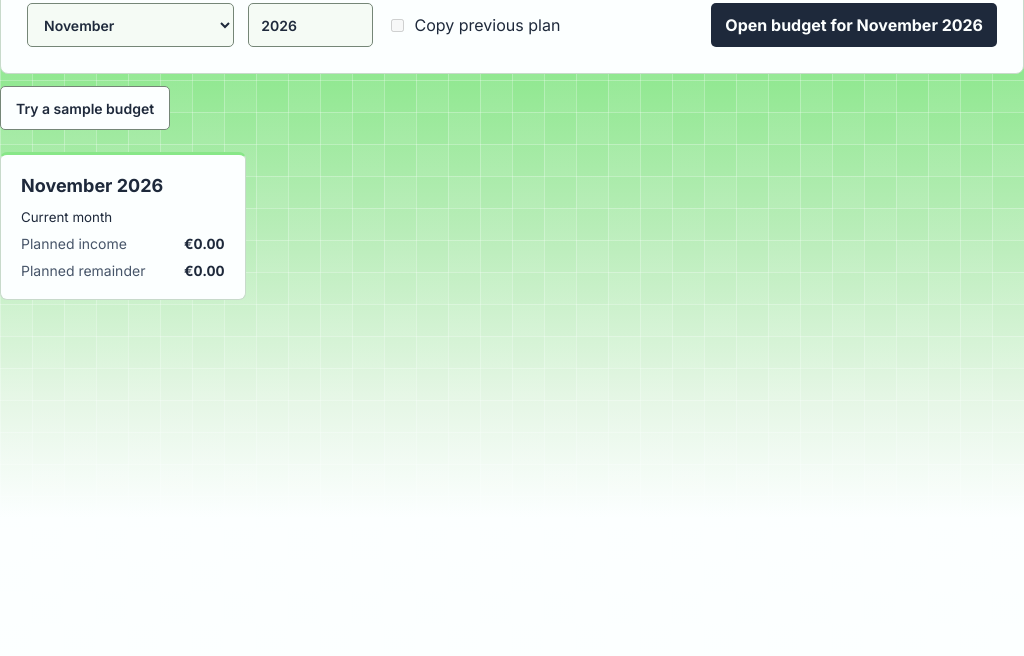
Test: requires confirmation to delete a named month
The width and height of the screenshot is (1024, 656).
Click the button with aria-label "Open November 2026": coordinates (123, 226) [0, 152, 246, 300]
(page scrolled)
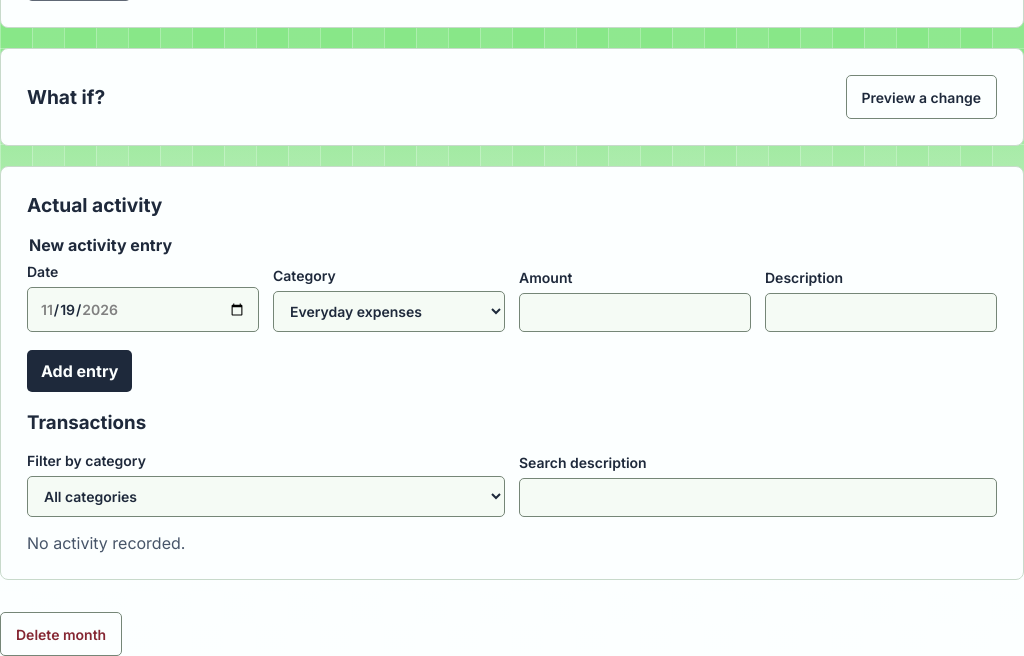
Click the button "Delete month": coordinates (61, 634) [0, 612, 122, 655]
(page scrolled)
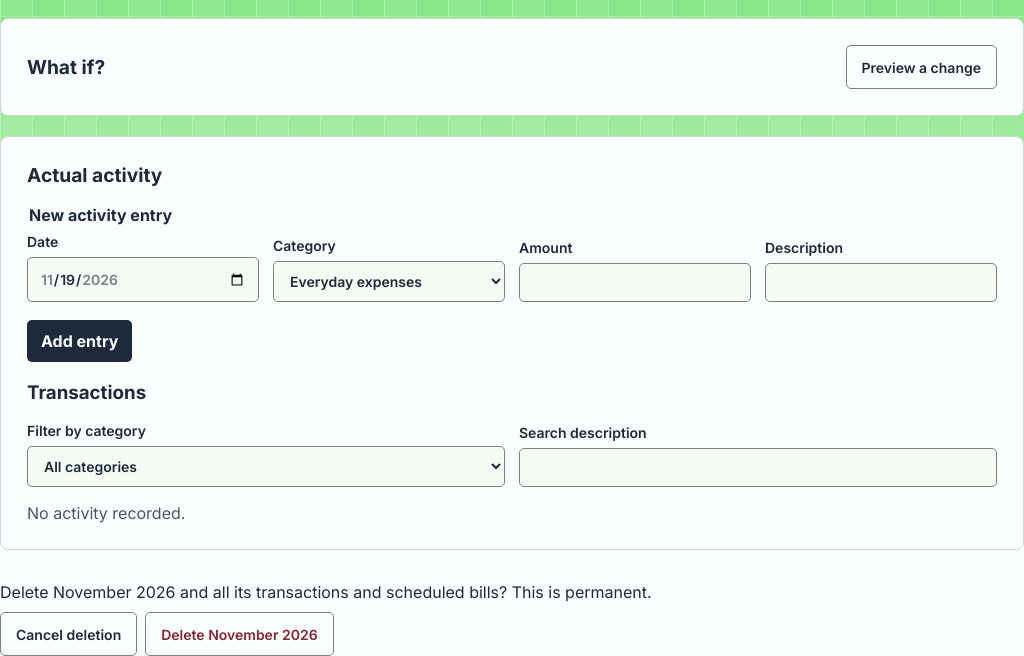
Click the button "Cancel deletion": coordinates (69, 634) [0, 612, 137, 655]
(page scrolled)
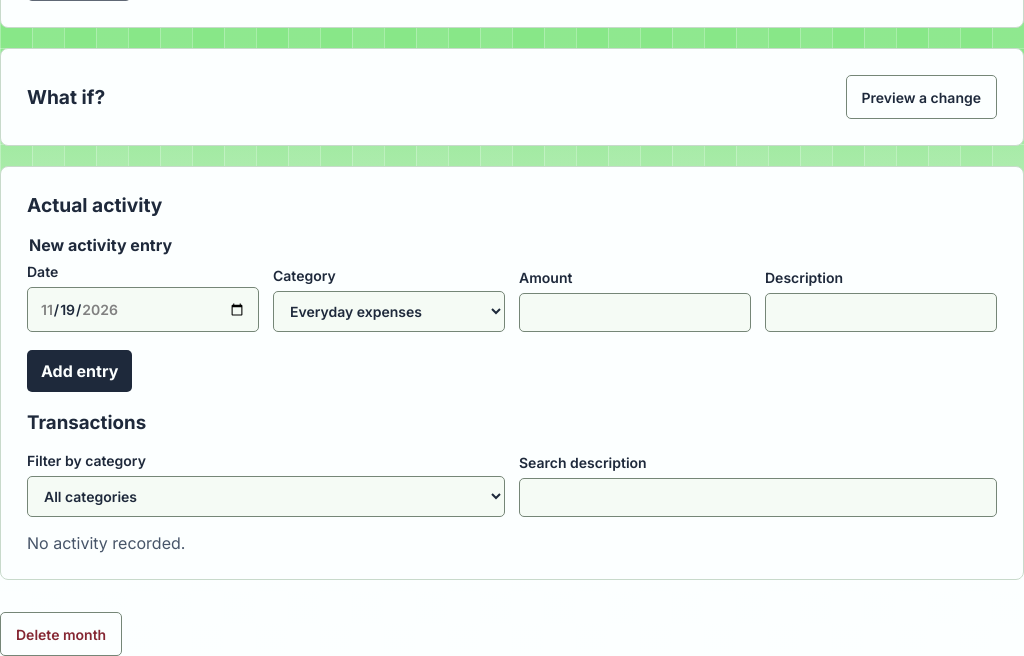
Click the button "Delete month": coordinates (61, 634) [0, 612, 122, 655]
(page scrolled)
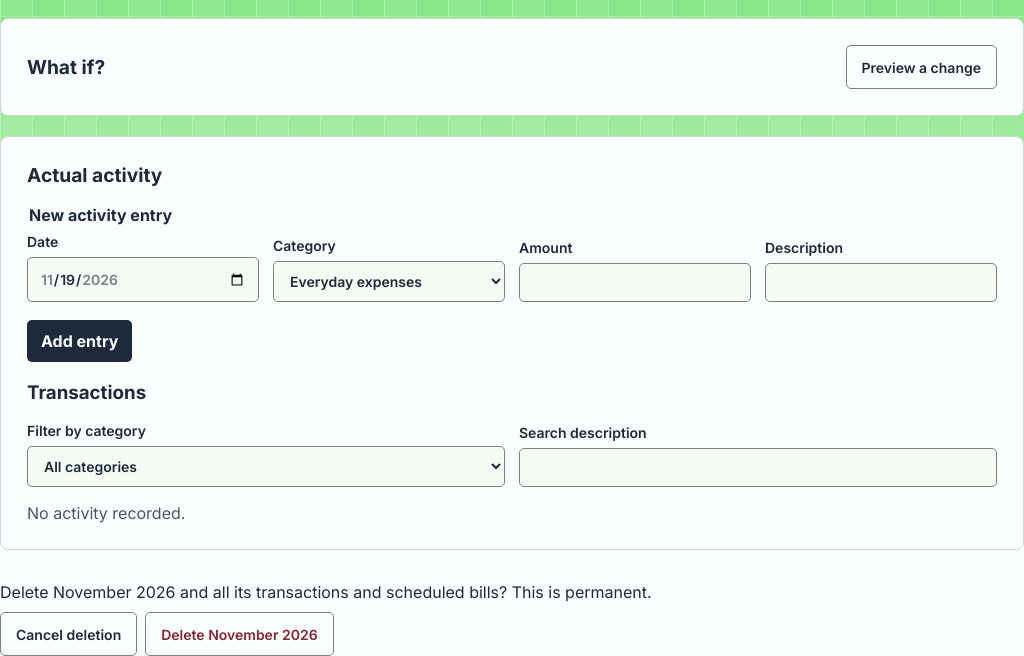
Click the button "Delete November 2026": coordinates (239, 634) [145, 612, 334, 655]
(page scrolled)
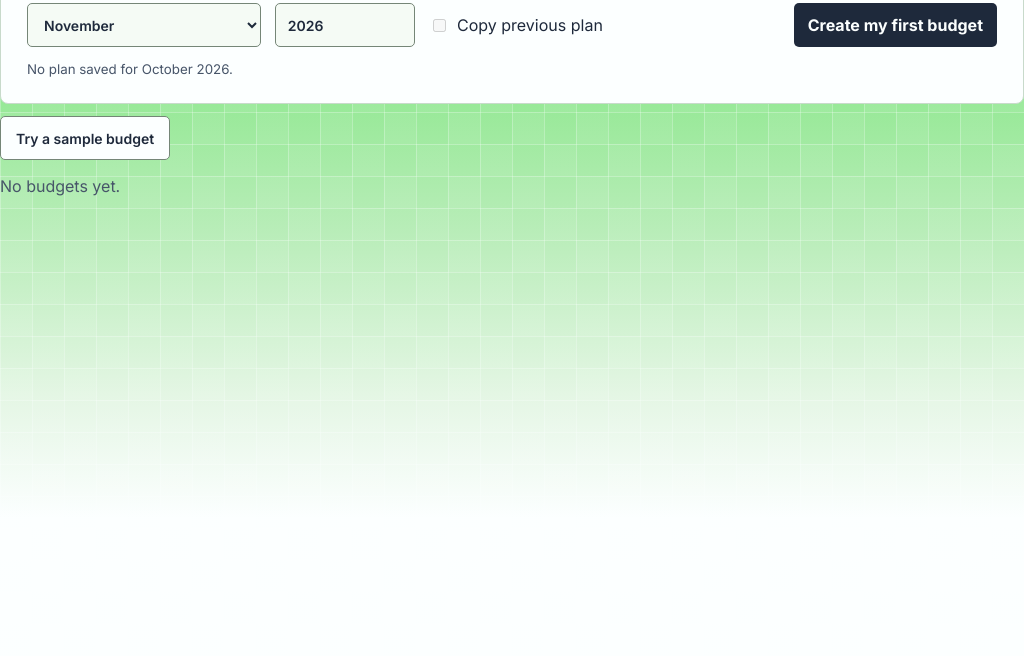
Now the text "No budgets yet." is shown, box [0, 176, 120, 196]
